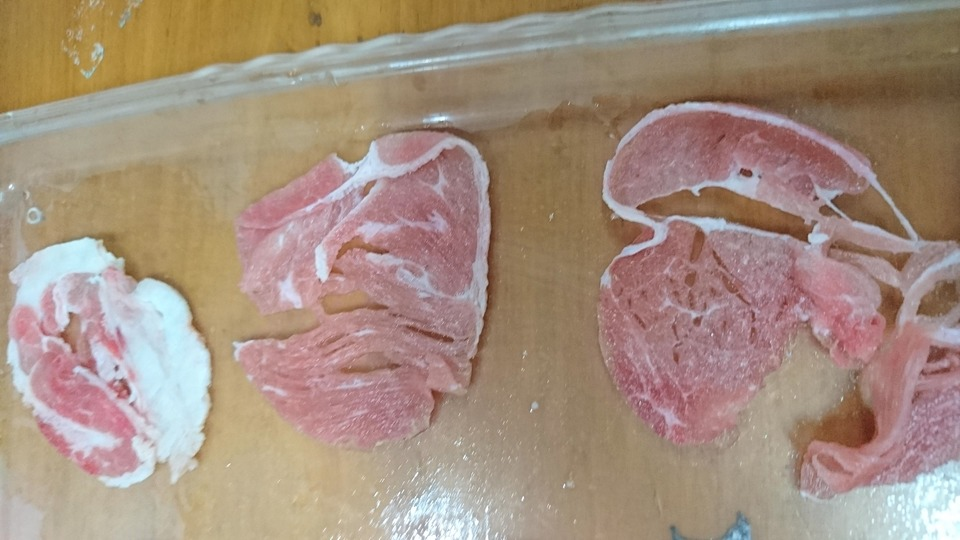restructured meat: (599, 83, 956, 494), (229, 149, 508, 440), (1, 241, 216, 477)
